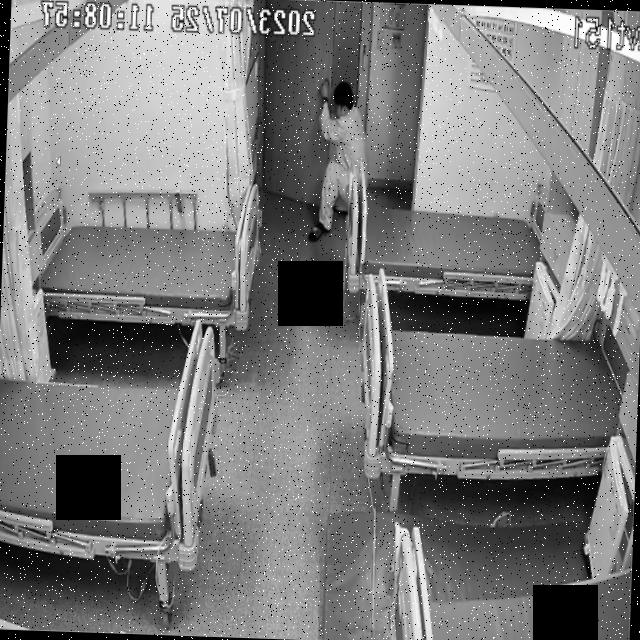bed: (0, 312, 219, 565), (358, 319, 626, 481), (24, 203, 262, 330), (347, 194, 539, 298)
danger: (306, 76, 369, 242)
patient: (306, 74, 371, 242)
